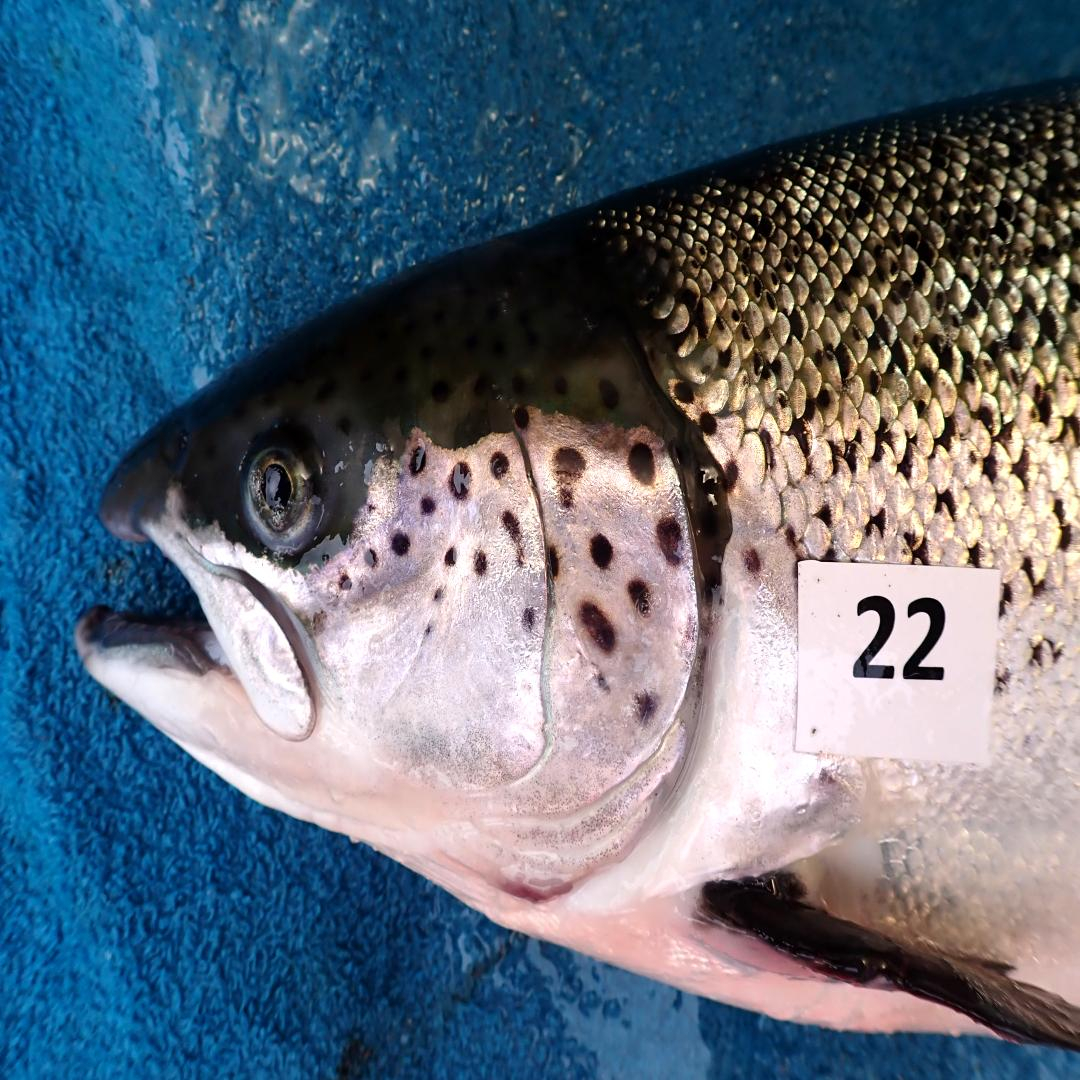roi: (316, 405, 708, 917)
